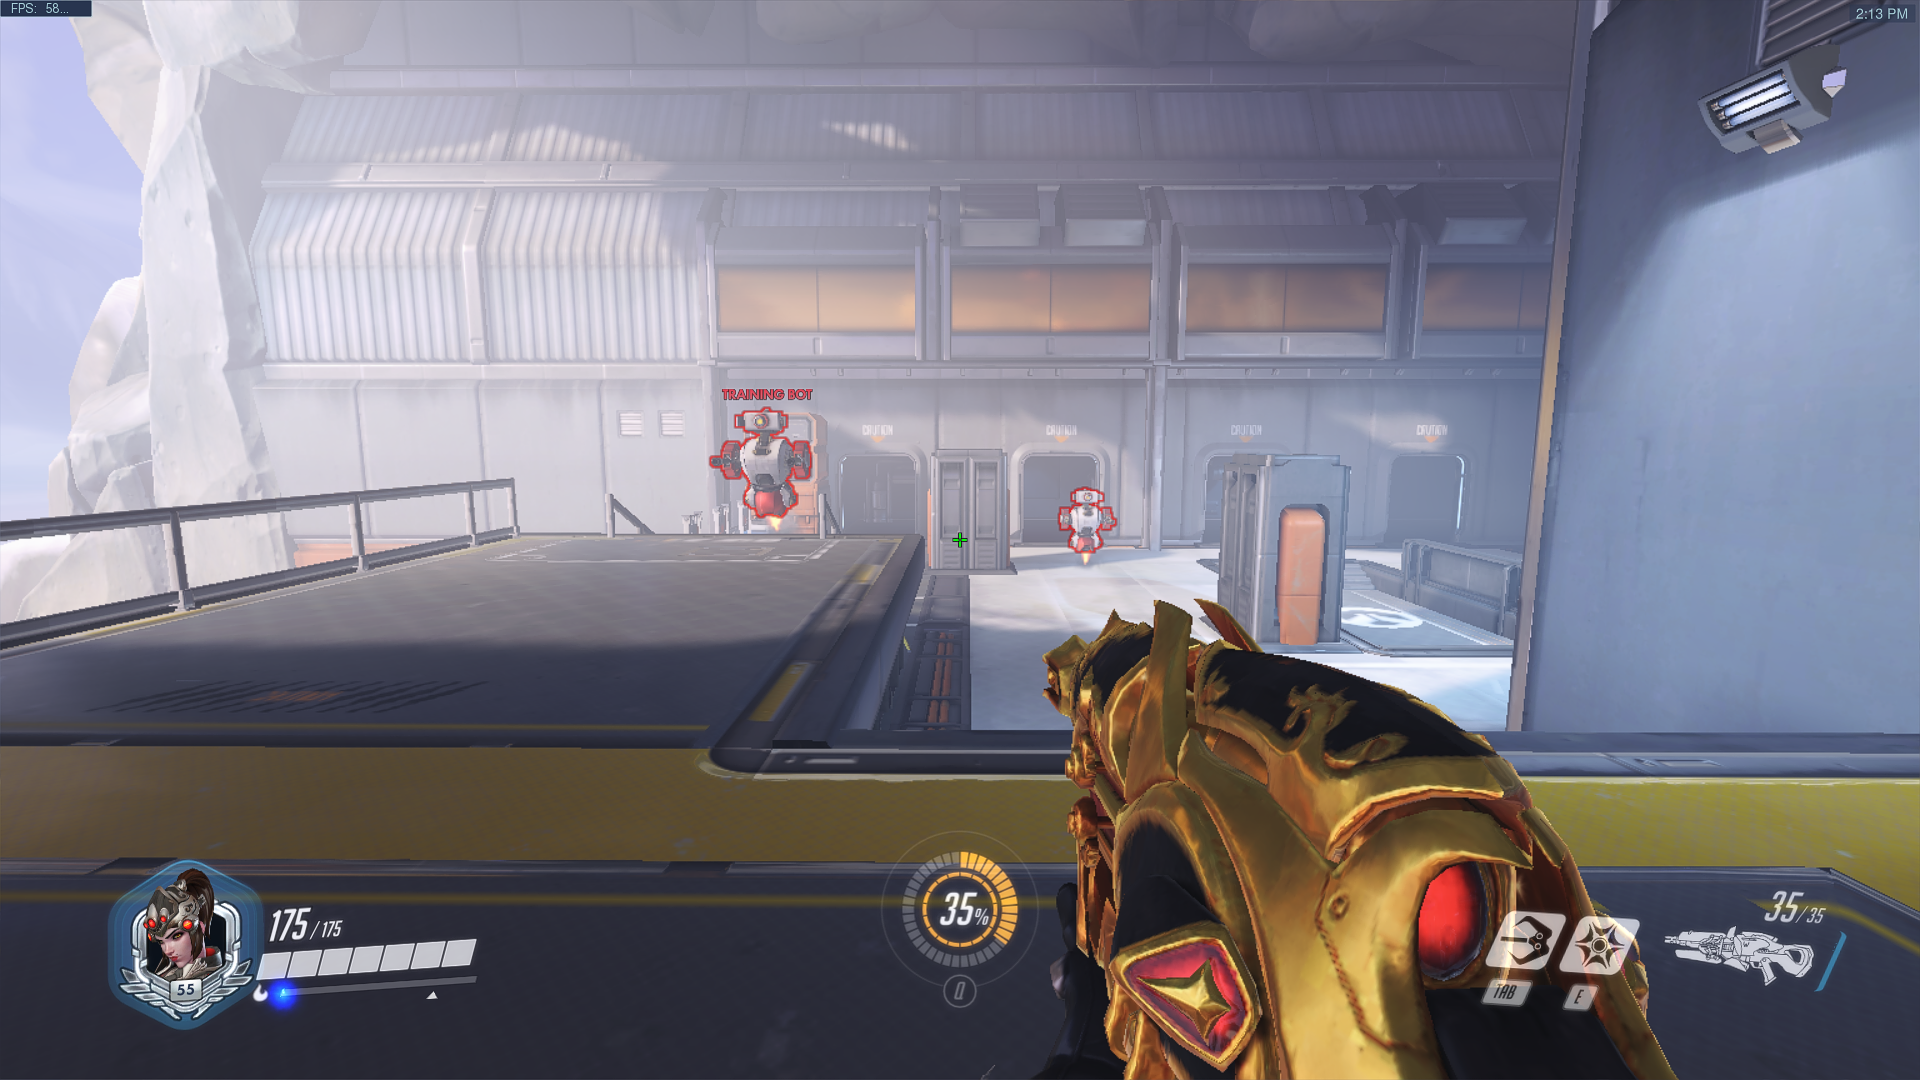head: (729, 409, 791, 441), (1068, 487, 1106, 509)
